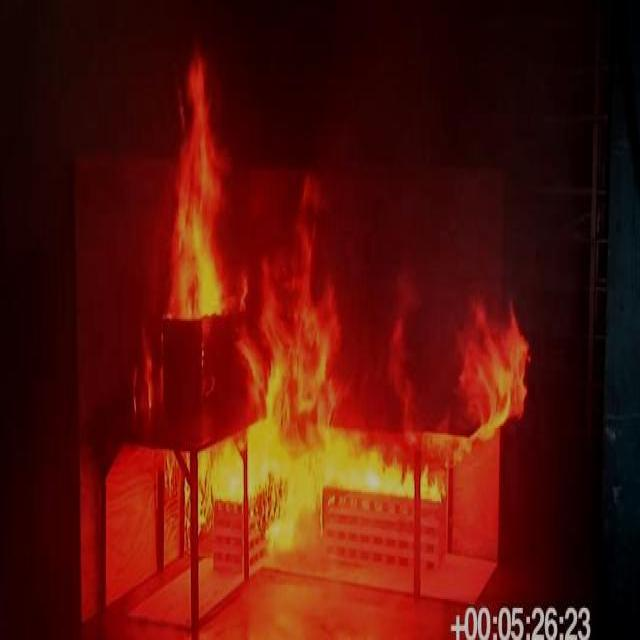Fire_Dangerous: (189, 309, 532, 553), (144, 64, 242, 306)
